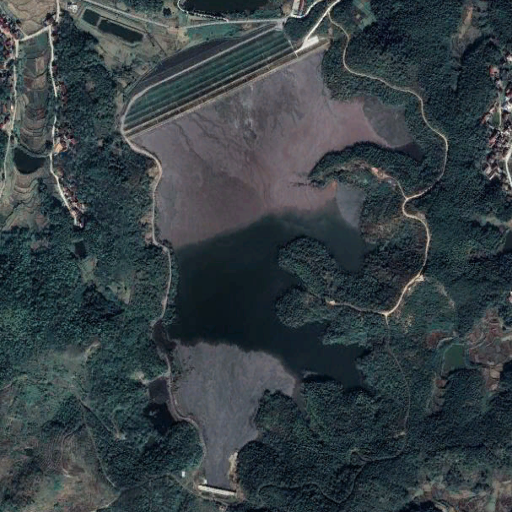tp: (122, 27, 427, 500)
